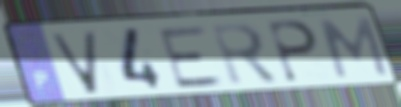4: (118, 25, 169, 95)
E: (155, 24, 228, 92)
M: (316, 15, 392, 80)
P: (264, 19, 322, 85)
R: (207, 21, 283, 89)
V: (46, 29, 102, 97)
